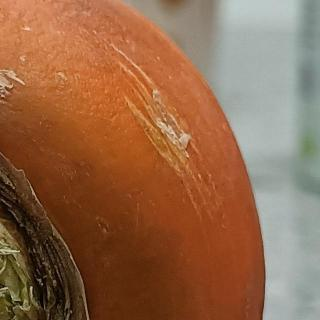carrot: (0, 0, 272, 320)
